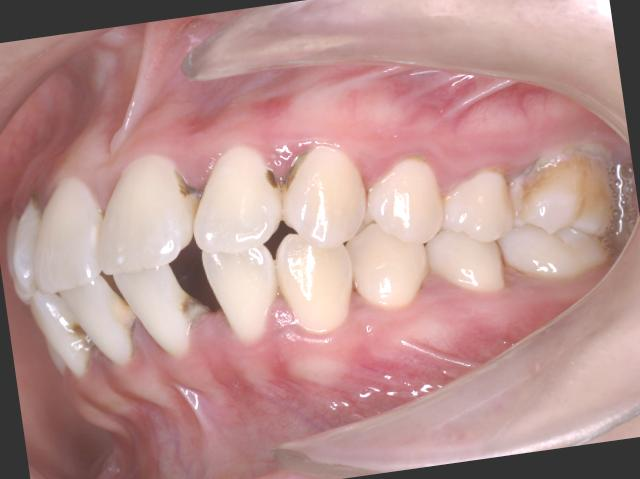canine class II 1/2: (258, 128, 438, 346)
molar class I: (488, 140, 628, 296)
